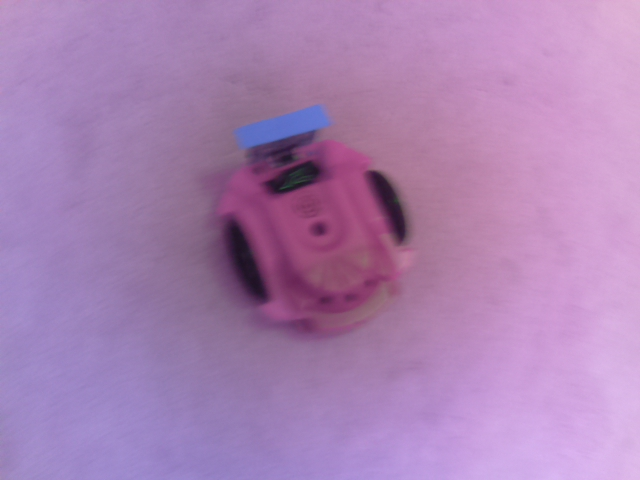board: (227, 102, 332, 159)
chassis: (199, 106, 440, 340)
